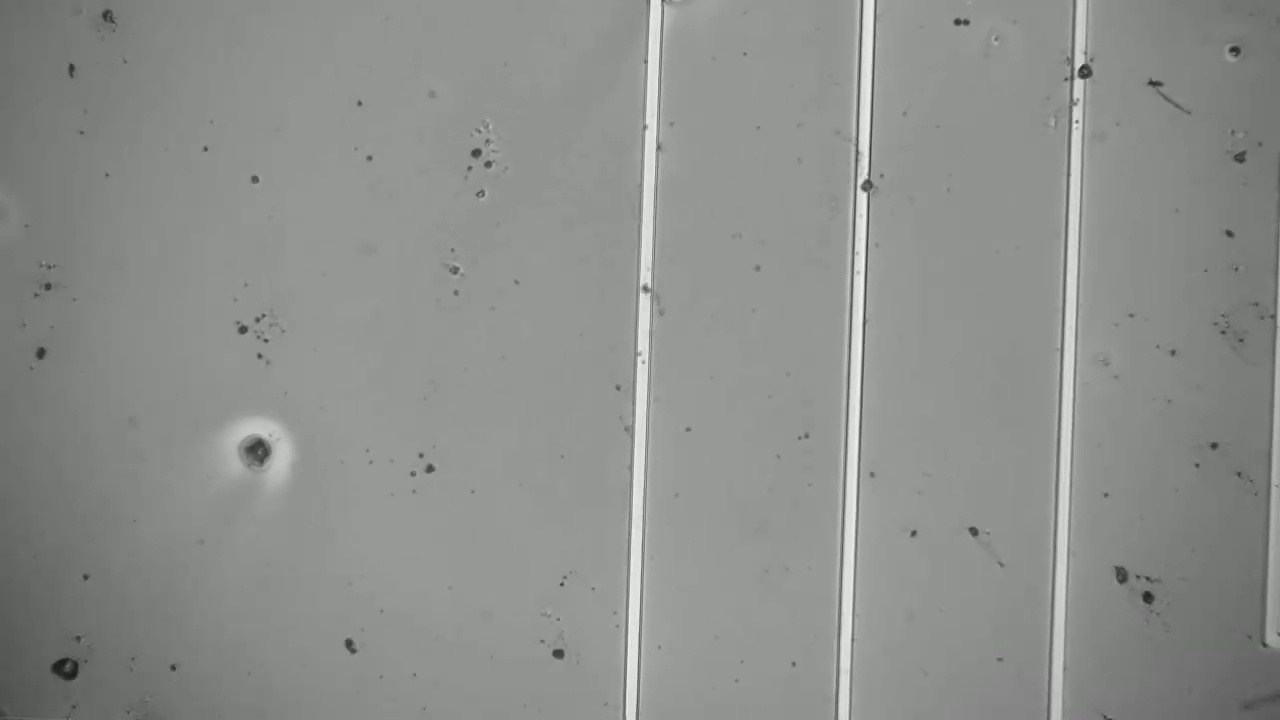stains_enbedded: (1061, 53, 1102, 90), (845, 171, 881, 203)
